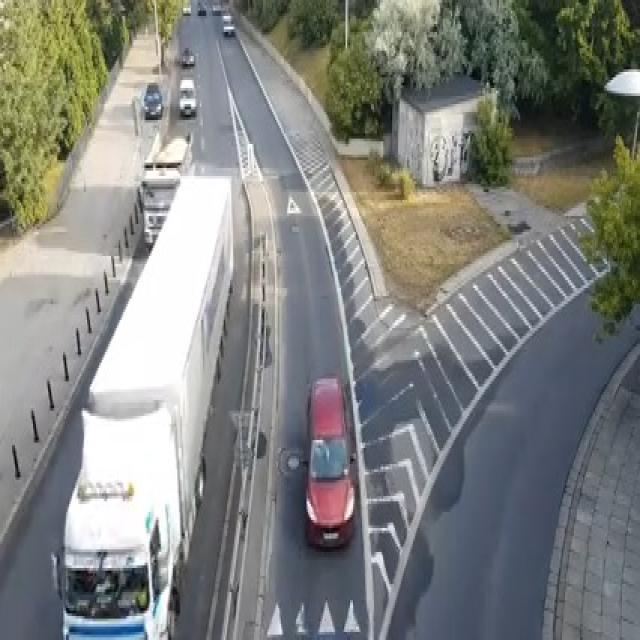bus: (51, 171, 234, 637)
car: (179, 77, 197, 115), (143, 83, 162, 117), (180, 45, 194, 67), (221, 13, 234, 35), (210, 0, 220, 13), (197, 0, 206, 13), (182, 3, 191, 13)
